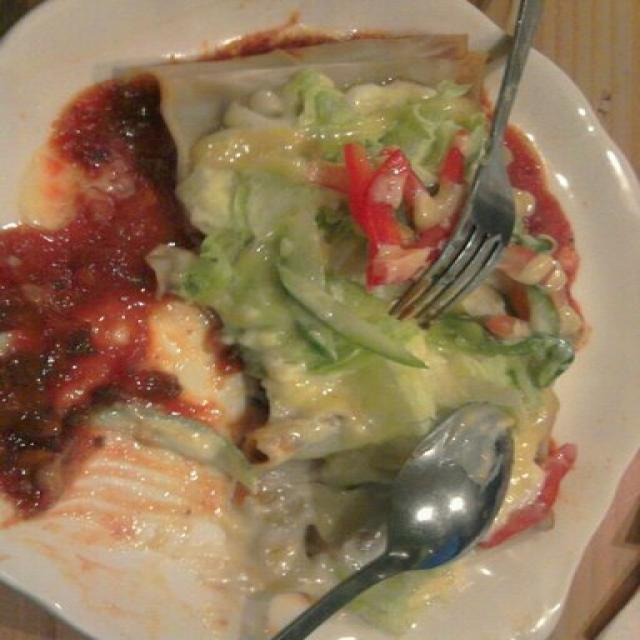Lasagna: (13, 194, 249, 564)
